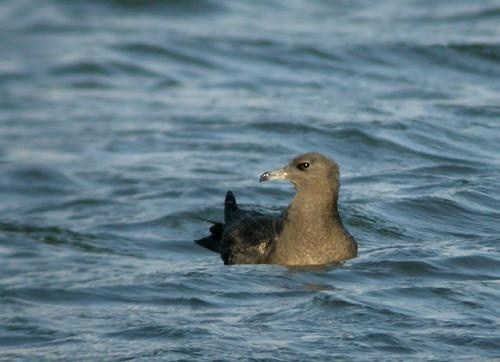bird: (195, 149, 359, 267)
